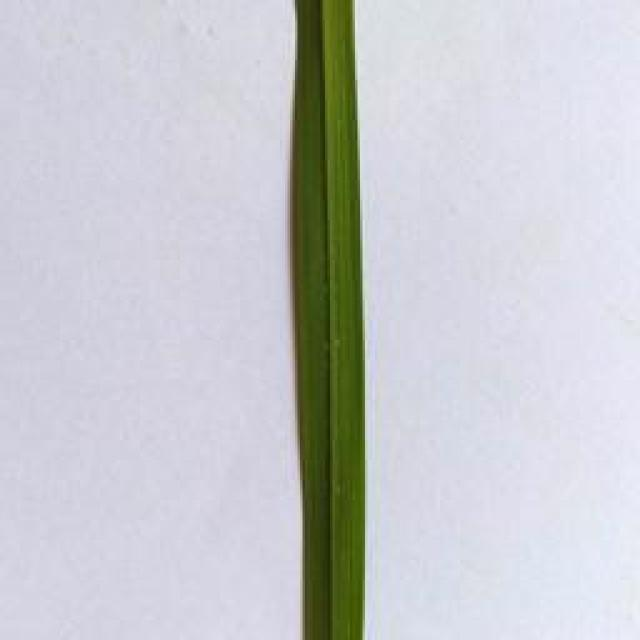Healthy-Plant: (286, 0, 373, 640)
